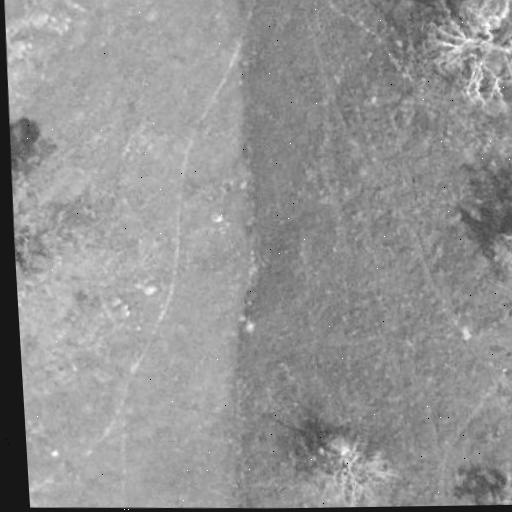tree-top: (413, 0, 512, 111), (291, 425, 401, 508), (487, 204, 512, 314)
